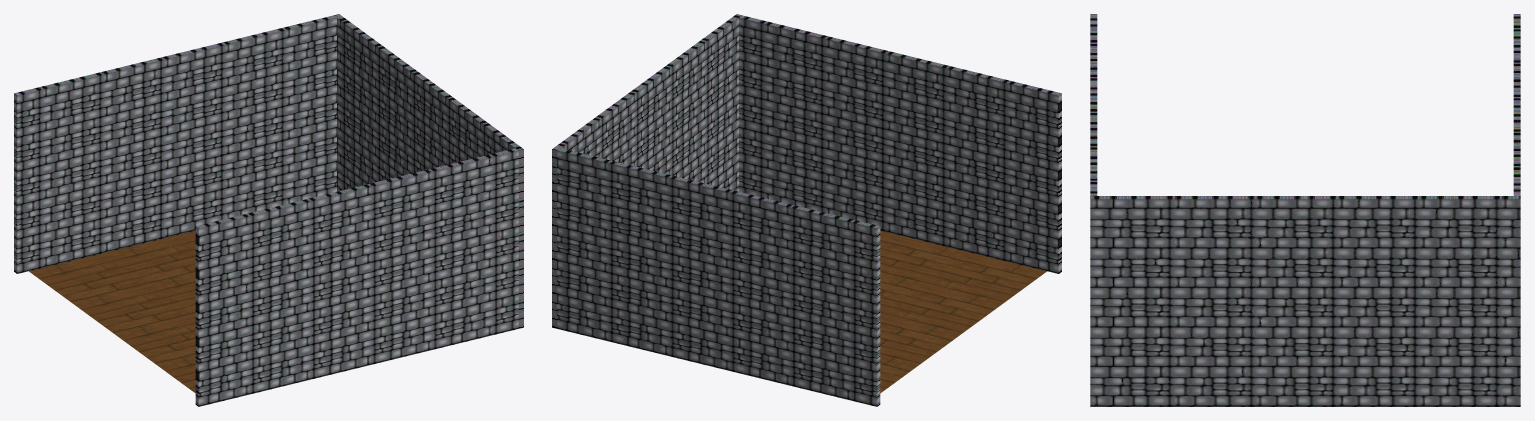
Rendered from Room2fbx.fbx.
The picture shows the model from 3 angles, left to right: view 1: azimuth 30°, elevation 25°; view 2: azimuth 150°, elevation 25°; view 3: azimuth 270°, elevation 25°; orthographic projection. The views are drawn at different scales.
Parts seen in each view (by area): view 1: Cube.023; view 2: Cube.023; view 3: Cube.023.
Boxes of the visible parts, x1,y1,x2,y2 form: Cube.023: (14,14,523,406); Cube.023: (552,14,1061,406); Cube.023: (1090,14,1520,406).
Bounding box in the file's own units: 3050 × 1600 × 3000.
